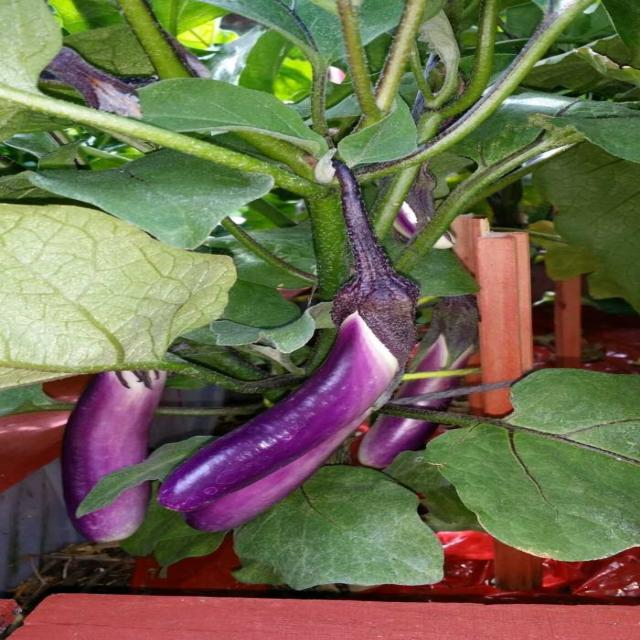Eggplant-r1Ob: (158, 162, 418, 511), (62, 370, 167, 541)
